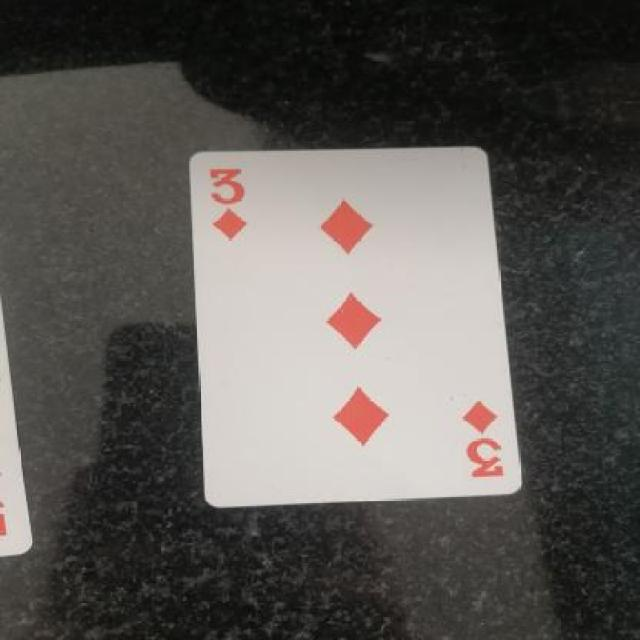3D: (452, 383, 517, 488), (197, 158, 257, 244)
